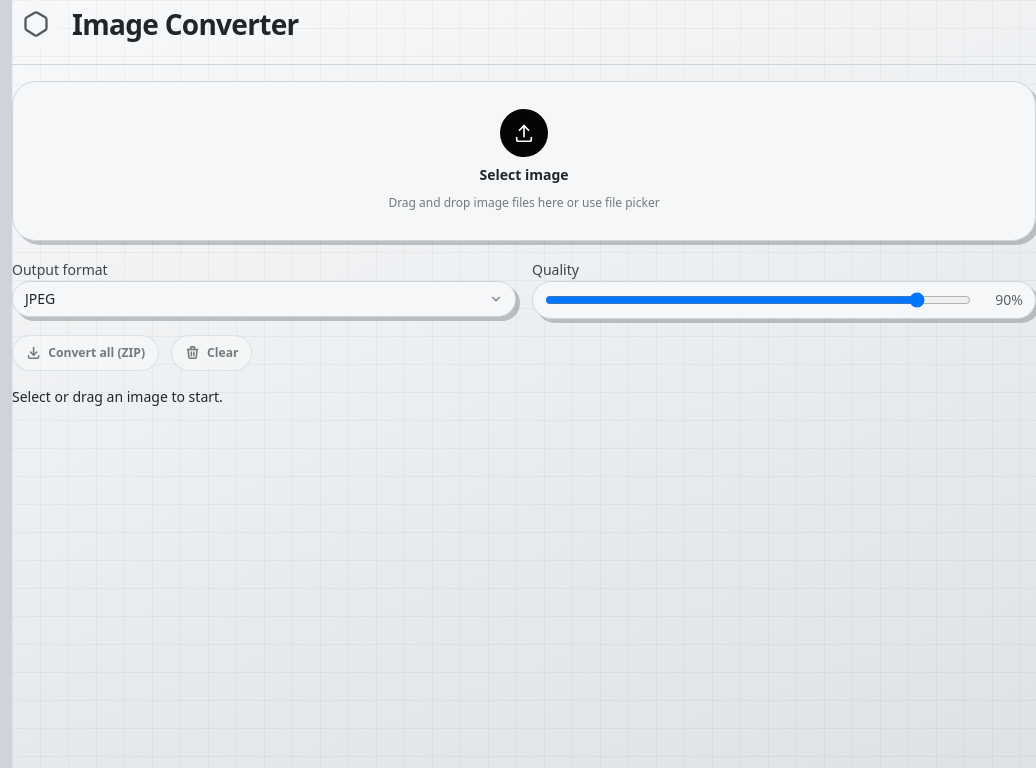
Test case: ImageConverterTool › disables quality for QOI because it has no quality slider
The image size is (1036, 768).
Click the button with aria-label "Output format" at [40, 298], box [12, 281, 516, 317]
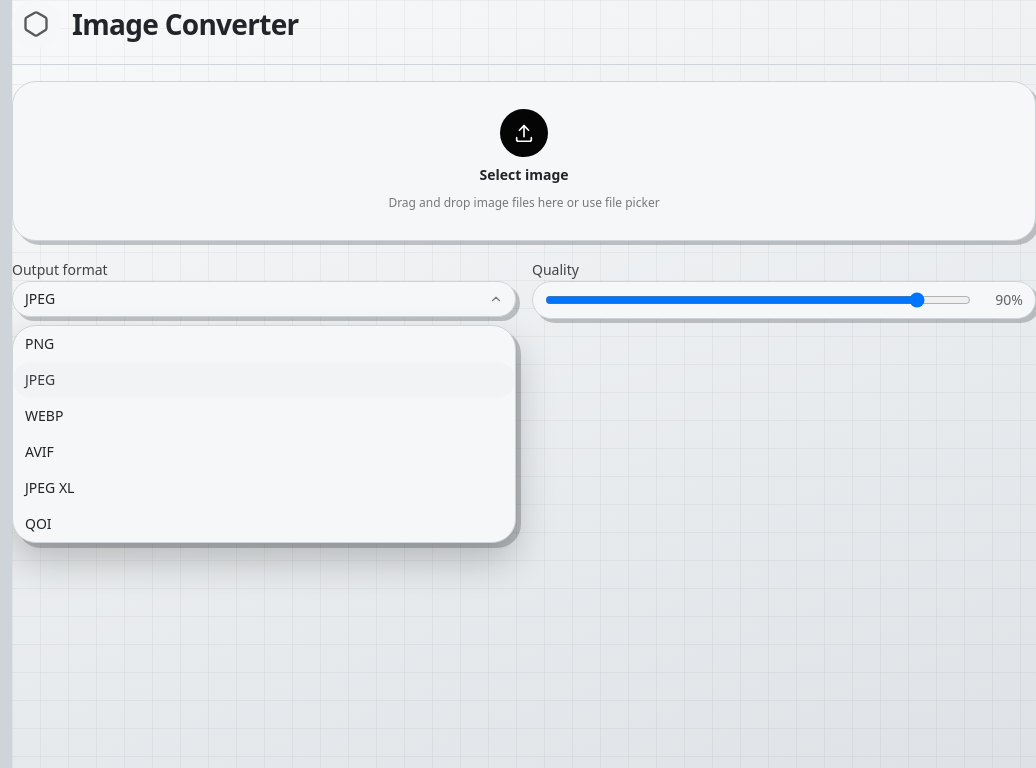
Click the option "QOI" at [38, 524], box [13, 506, 515, 542]
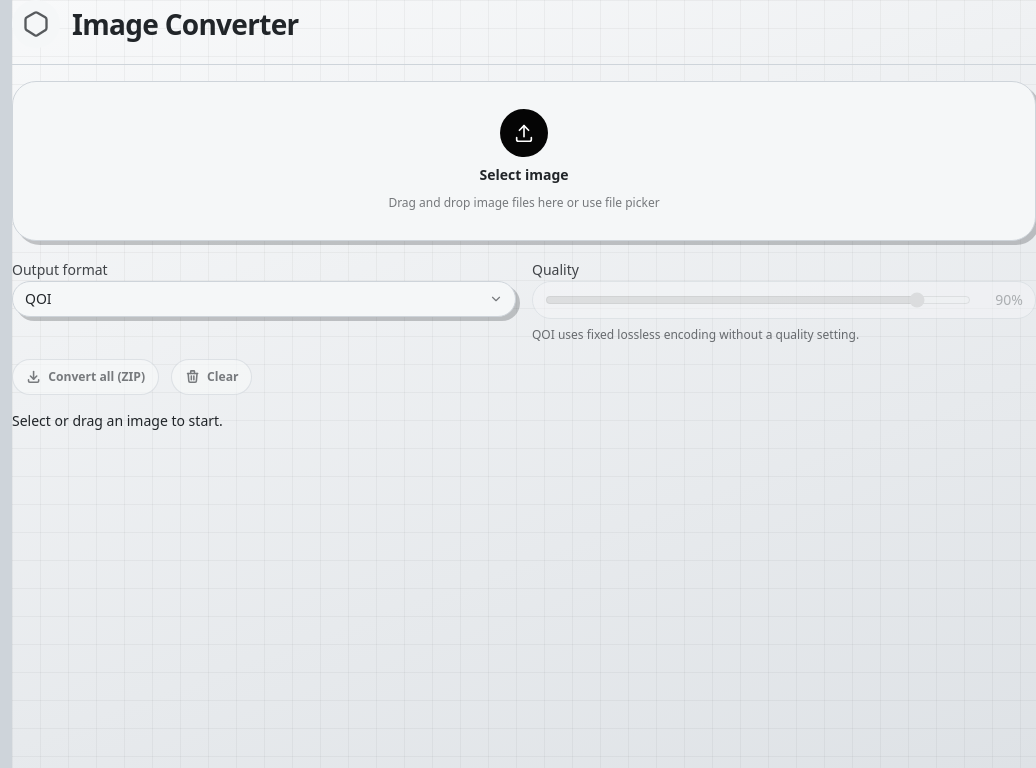
Result: the slider named "90%" is disabled at [545, 292, 971, 308]
Result: the text "QOI uses fixed lossless encoding without a quality setting." is shown at [532, 326, 859, 343]
